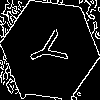Y: (25, 24, 77, 73)
